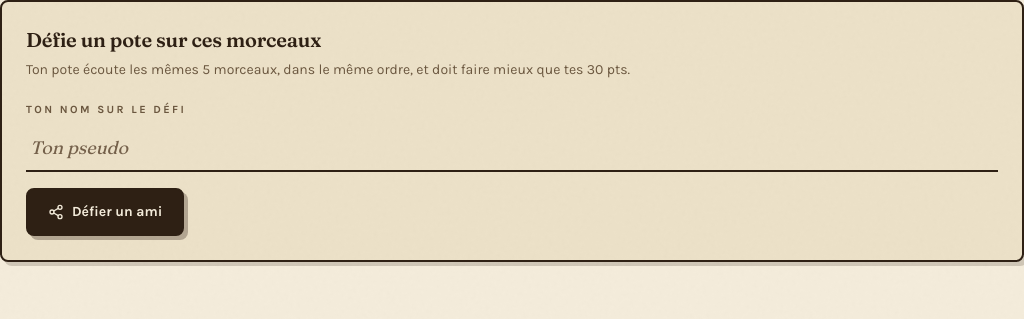
ChallengeInvite › pseudo › retenu apres le succes seulement, quand aucun n'etait connu
Later steps or results of the test are not shown.
Type "Rival" into the field labelled "Ton nom sur le défi" at (512, 149), box [26,126,998,172]
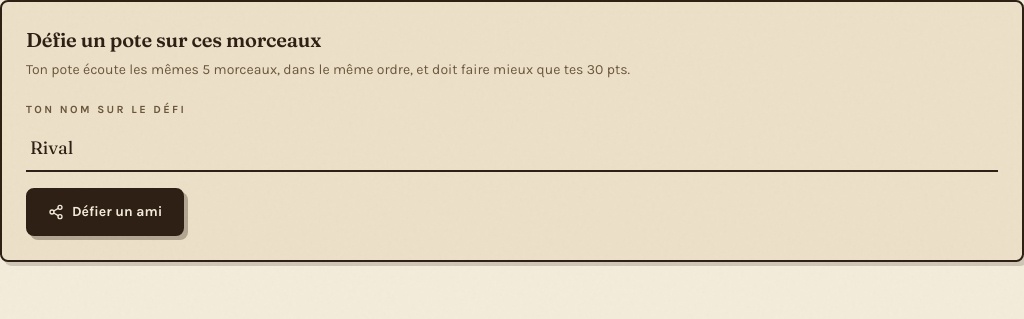
Click the button "Défier un ami" at (105, 212), box [26,188,184,236]
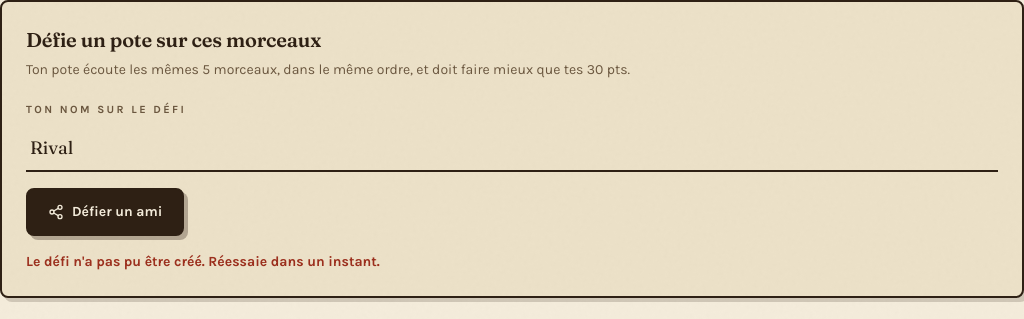
Now the message "Le défi n'a pas pu être créé. Réessaie dans un instant." is shown, box [26,253,380,270]
